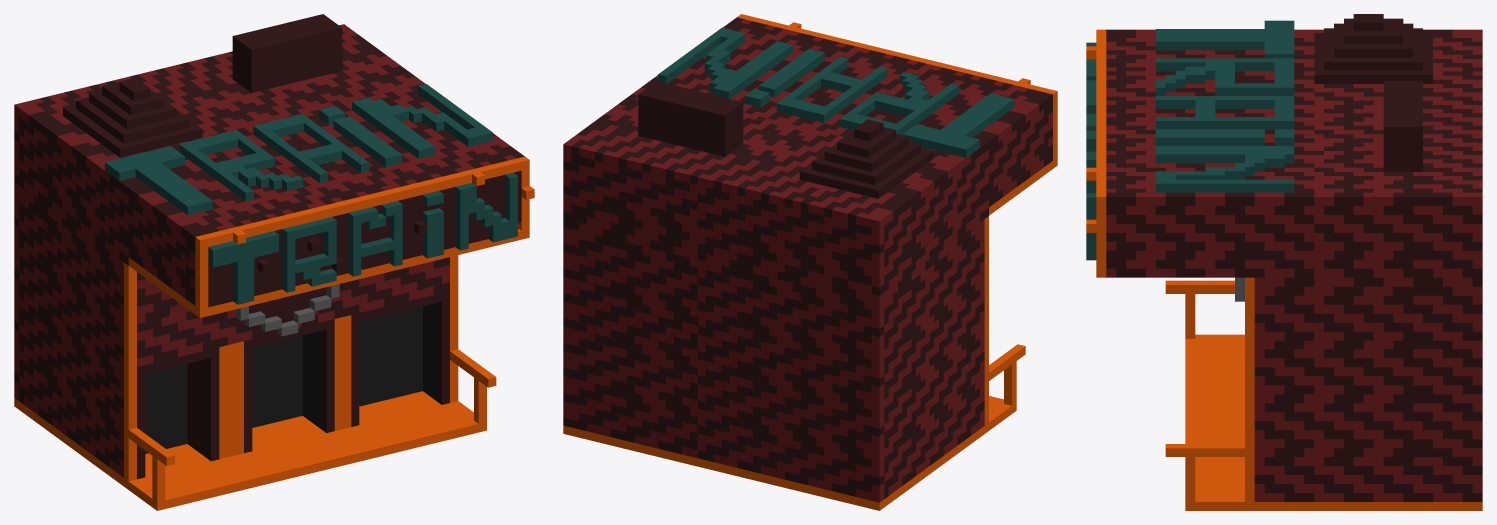
The model's file is trainStation.fbx.
3 renders of one model, left to right at view 1: azimuth 30°, elevation 25°; view 2: azimuth 150°, elevation 25°; view 3: azimuth 270°, elevation 25°, orthographic. The views are drawn at different scales.
Parts seen in each view (by area): view 1: ObjObject; view 2: ObjObject; view 3: ObjObject.
Part boxes in pixels (left/top/right/bottom): ObjObject: left=14, top=14, right=534, bottom=510; ObjObject: left=563, top=14, right=1057, bottom=510; ObjObject: left=1086, top=14, right=1482, bottom=510.
Bounding box in the file's own units: 400 × 400 × 400.
